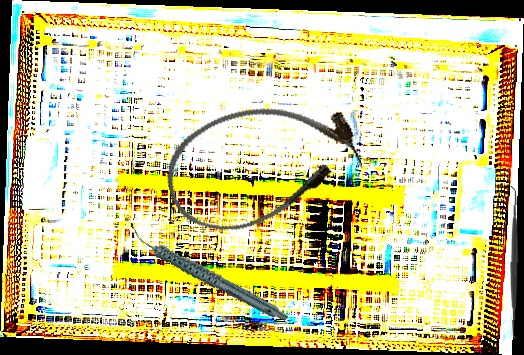Cannula: (153, 82, 371, 247)
Handpiece: (129, 200, 290, 350)
Spatula Surgical: (504, 186, 524, 339)
